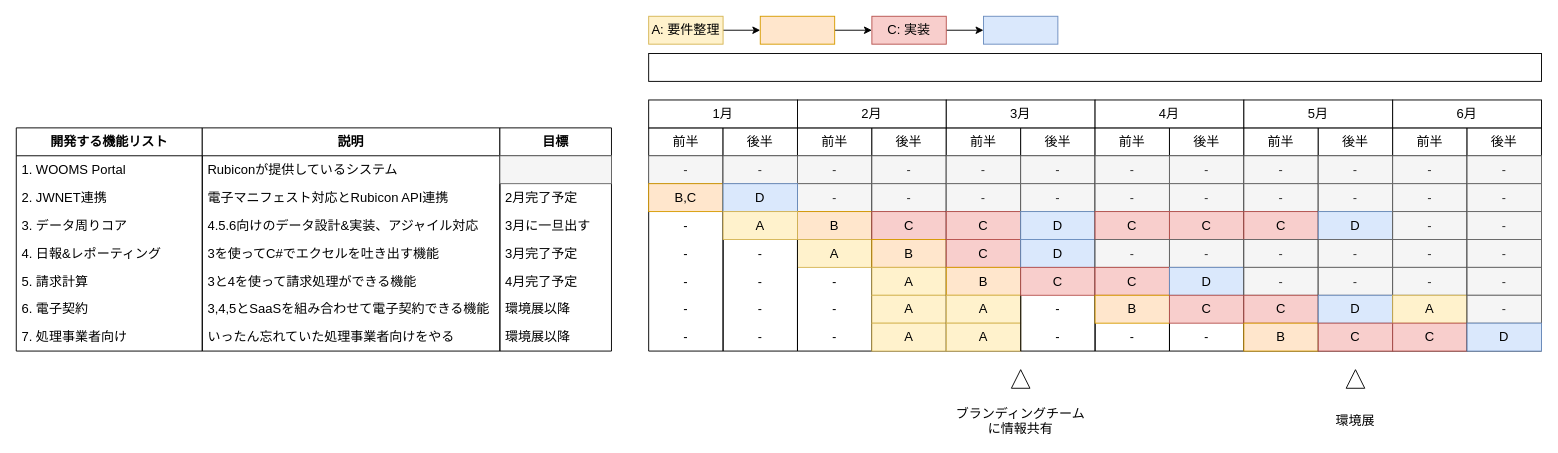
Some shapes in this 1558 by 453 pixel diagram are drawn without their labels. Here are the shapes that lost their labels. From the top down, the centre of each, then its label:
the point at 797,29: B: 仕様設計
the point at 1020,29: D: テスト
the point at 1094,67: スケジュール
the point at 555,169: Done
